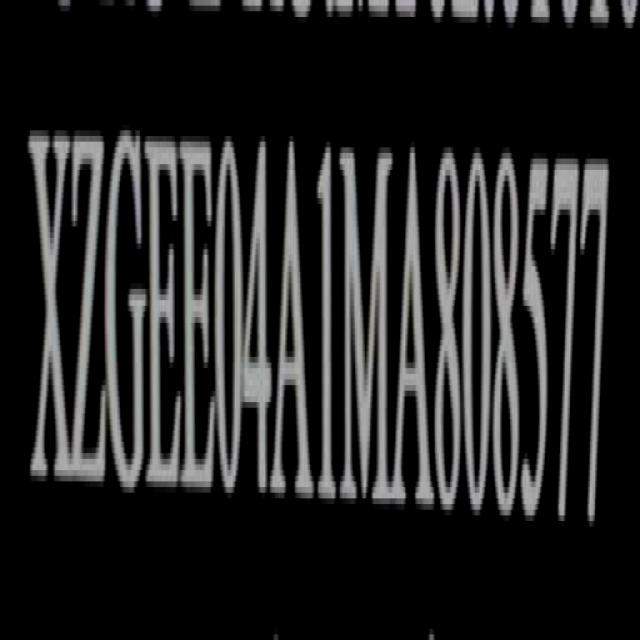0: (213, 126, 246, 510), (461, 145, 490, 521)
1: (314, 136, 338, 504)
4: (241, 132, 273, 504)
5: (522, 146, 553, 529)
7: (582, 150, 616, 533), (554, 146, 582, 531)
8: (430, 143, 464, 517), (493, 147, 523, 524)
A: (394, 140, 433, 514), (275, 136, 313, 508)
E: (145, 126, 181, 501), (183, 128, 216, 501)
G: (108, 126, 147, 500)
M: (342, 142, 395, 511)
X: (31, 124, 72, 497)
Z: (67, 126, 105, 494)
